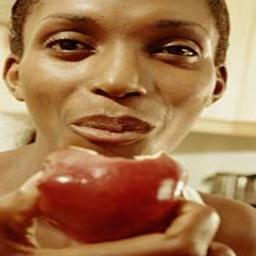apple: (37, 149, 196, 244)
